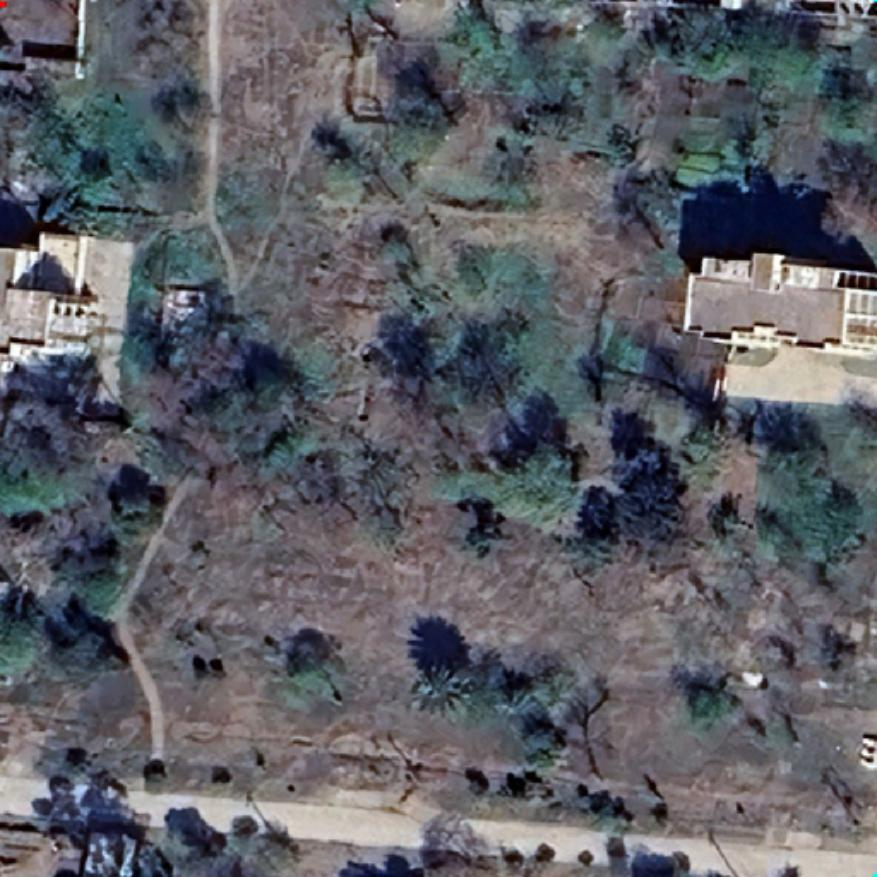Solarpanel: (831, 268, 877, 294)
